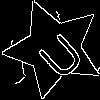U: (28, 23, 88, 83)
